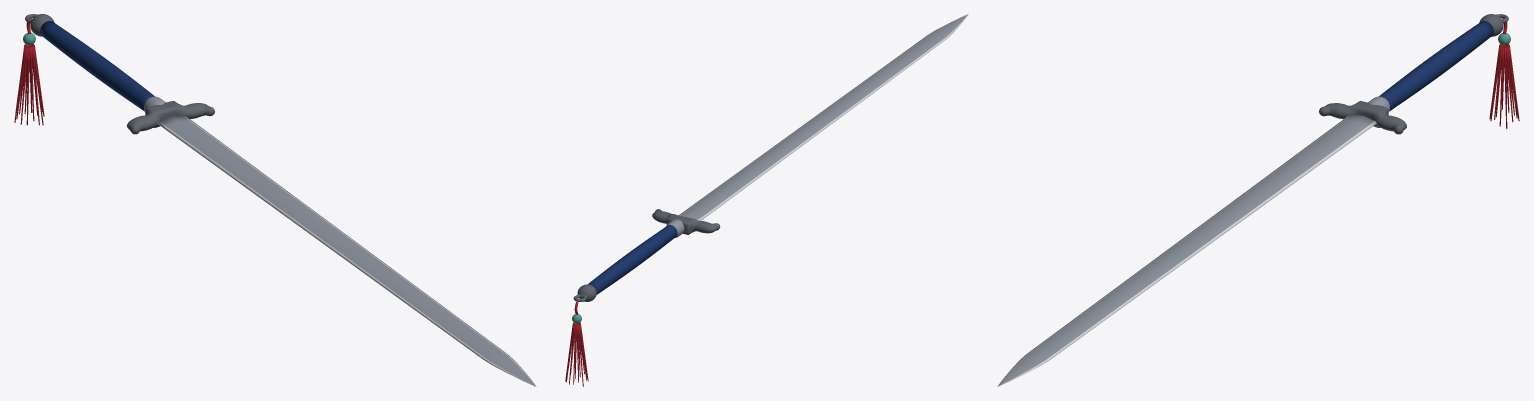
The model's file is sword.glb.
3 views of the same model, side by side, from view 1: azimuth 30°, elevation 25°; view 2: azimuth 150°, elevation 25°; view 3: azimuth 330°, elevation 25° (orthographic). The views are drawn at different scales.
Parts seen in each view (by area): view 1: 剑刃; view 2: 剑刃; view 3: 剑刃.
Boxes of the visible parts, bbox=[...] form: 剑刃: bbox=[14, 14, 536, 386]; 剑刃: bbox=[565, 14, 968, 386]; 剑刃: bbox=[997, 14, 1519, 386].
Size of the model in its own units: 0.1638 by 0.2212 by 1.76.
